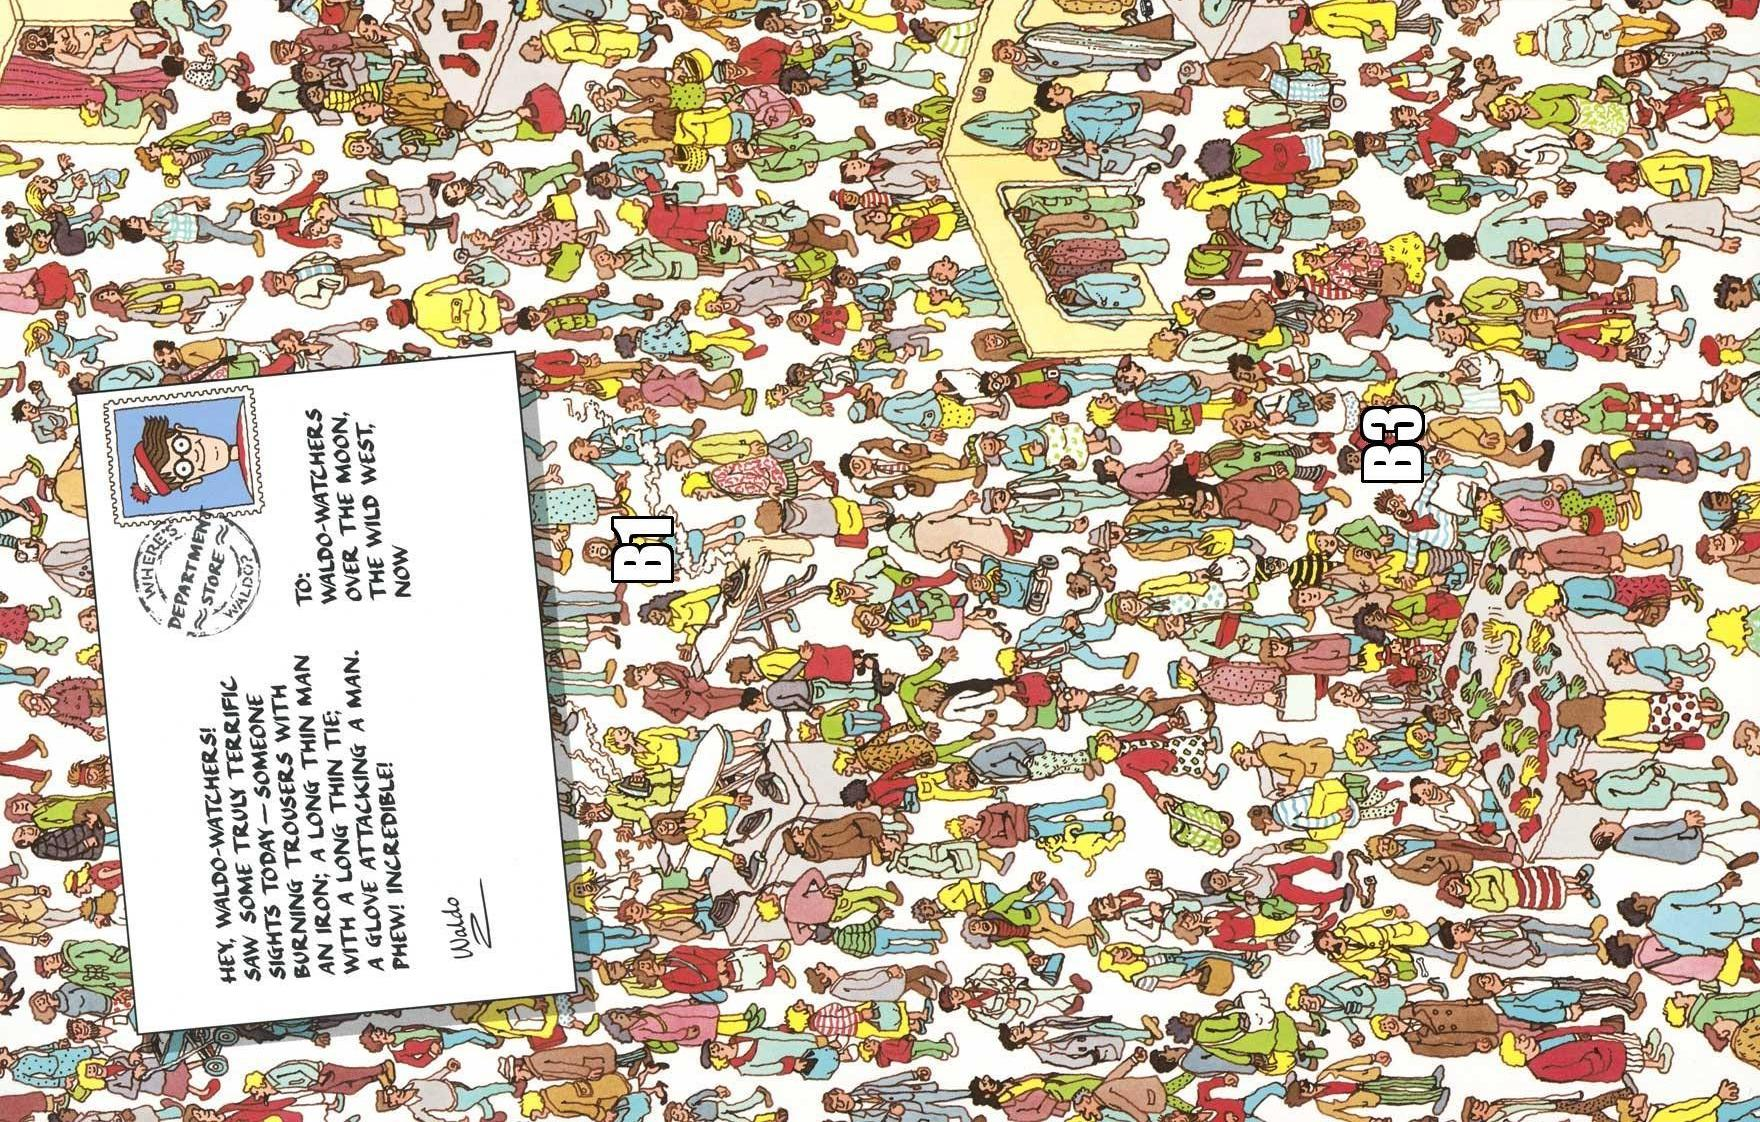waldos: (123, 395, 253, 507)
